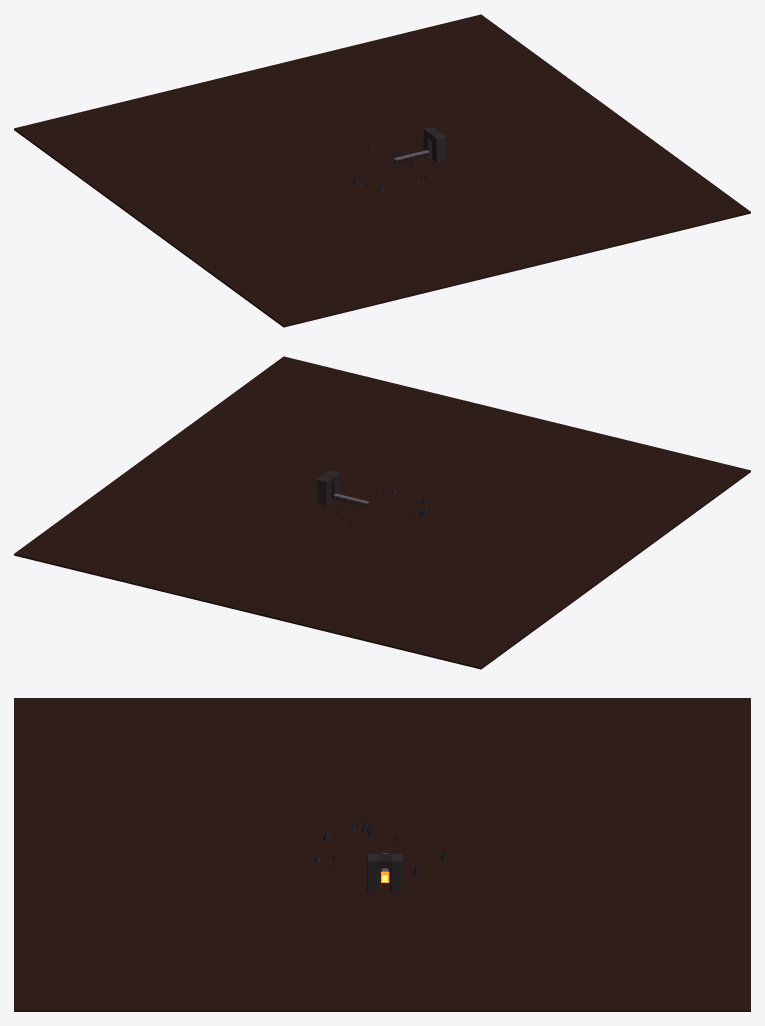
The model's file is surround-caldera.glb.
3 renders of one model, top to bottom at view 1: azimuth 30°, elevation 25°; view 2: azimuth 150°, elevation 25°; view 3: azimuth 270°, elevation 25°, orthographic. The views are drawn at different scales.
Parts seen in each view (by area): view 1: surround-caldera; view 2: surround-caldera; view 3: surround-caldera.
Boxes of the visible parts, x1,y1,x2,y2 form: surround-caldera: [14, 14, 750, 327]; surround-caldera: [14, 356, 750, 669]; surround-caldera: [14, 698, 750, 1011].
Bounding box in the file's own units: 140 × 8.13 × 140.
